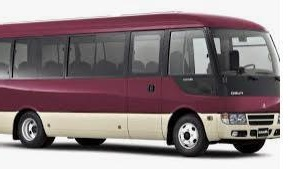bus: (1, 11, 281, 155)
